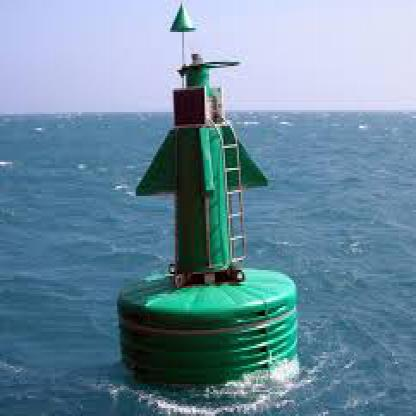buoy: (113, 0, 306, 398)
